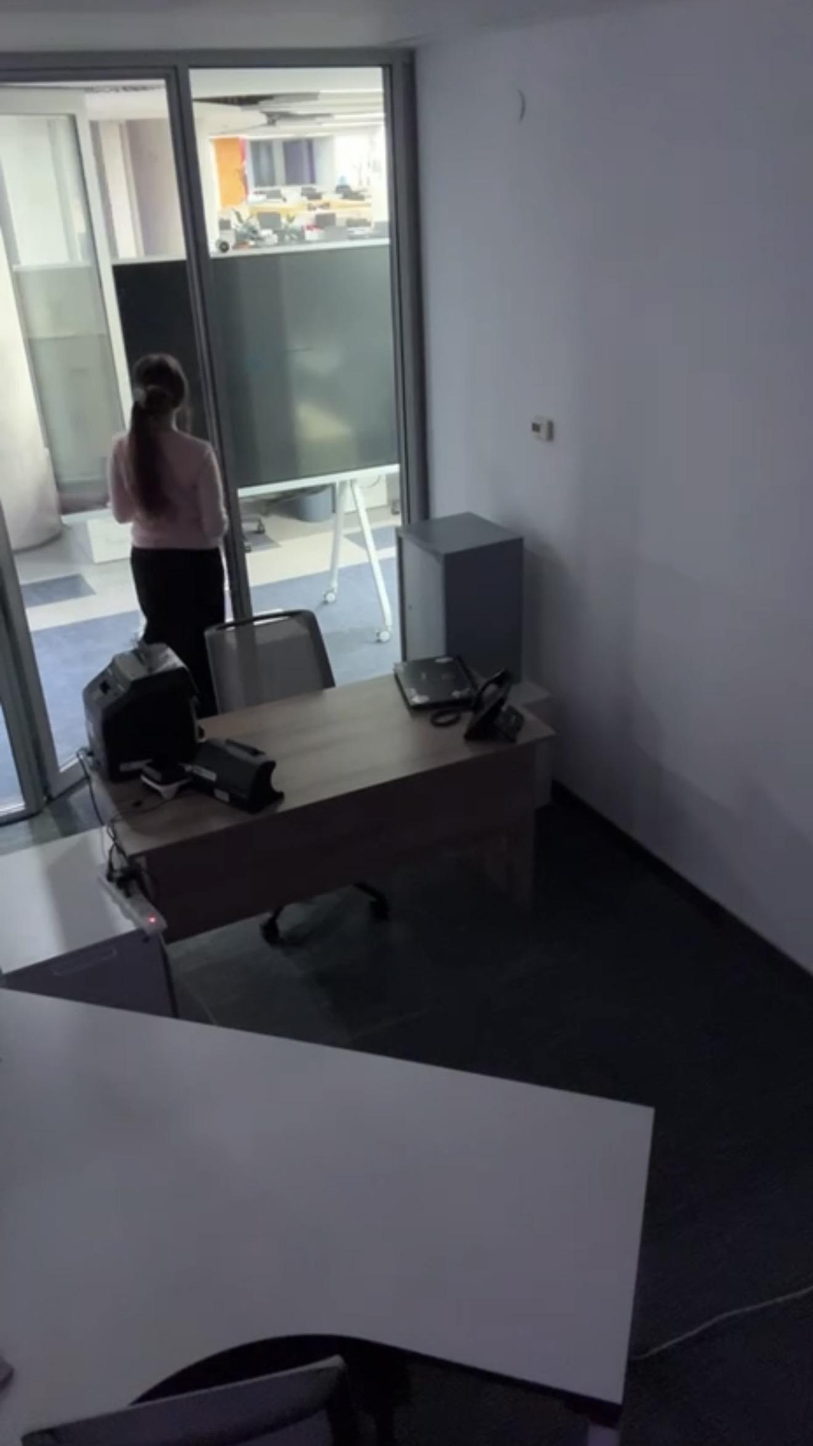counter: (80, 645, 207, 762)
door_open: (2, 78, 242, 579)
uv_lamp: (189, 725, 287, 817)
